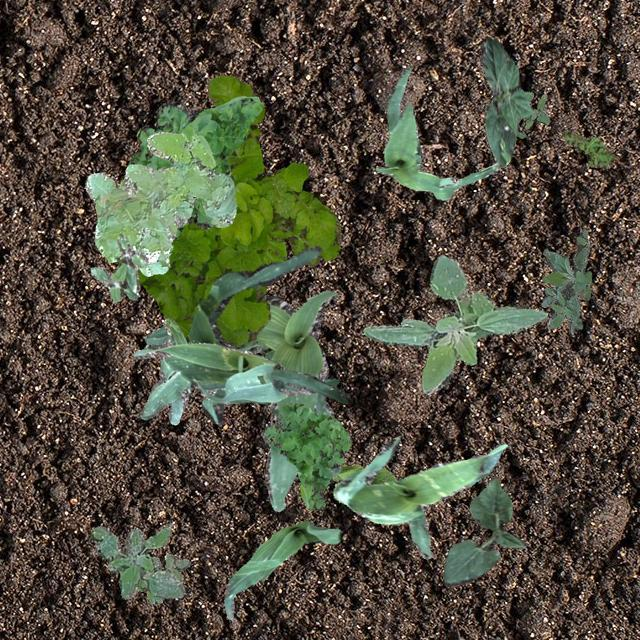crop: (143, 288, 340, 511), (185, 244, 338, 423), (132, 316, 352, 424), (334, 436, 506, 558), (374, 65, 500, 198), (222, 520, 340, 618), (442, 476, 528, 586), (481, 36, 534, 166), (331, 462, 396, 482)
weed: (136, 74, 340, 346), (362, 254, 546, 394), (84, 130, 236, 274), (119, 95, 262, 238), (260, 402, 350, 509), (90, 524, 184, 598), (540, 228, 590, 334), (90, 232, 146, 302), (134, 552, 190, 602), (562, 128, 614, 168), (516, 90, 548, 138)
